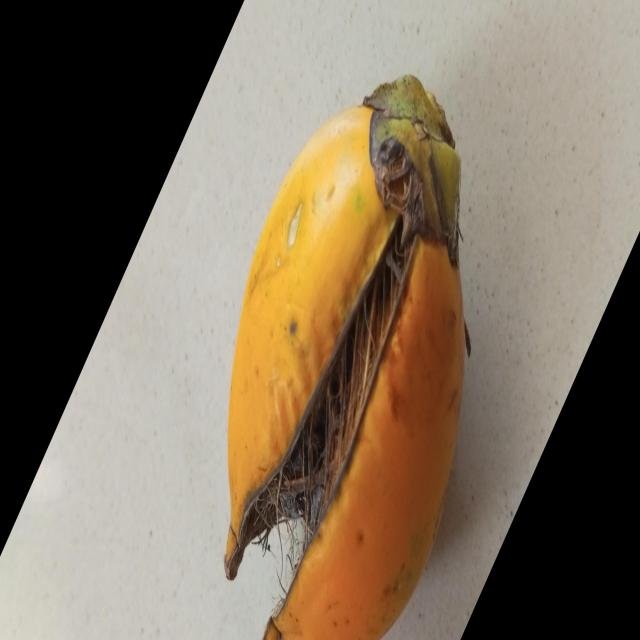damaged: (224, 77, 468, 640)
